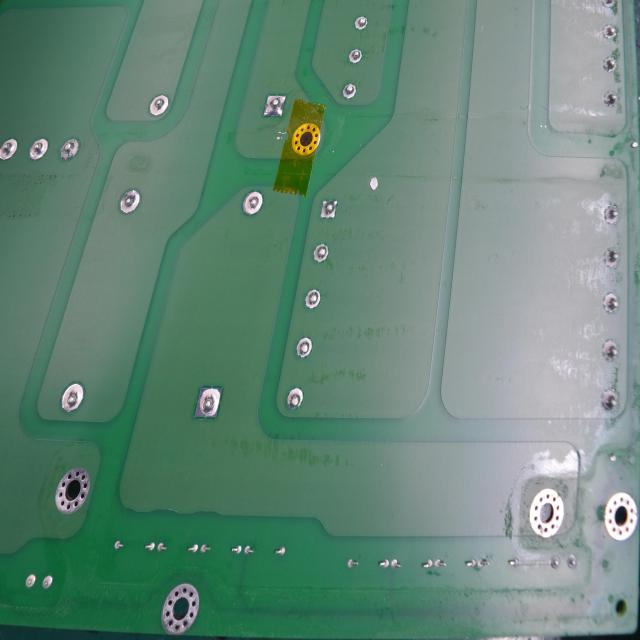spillover: (367, 173, 378, 192), (275, 130, 287, 142)
